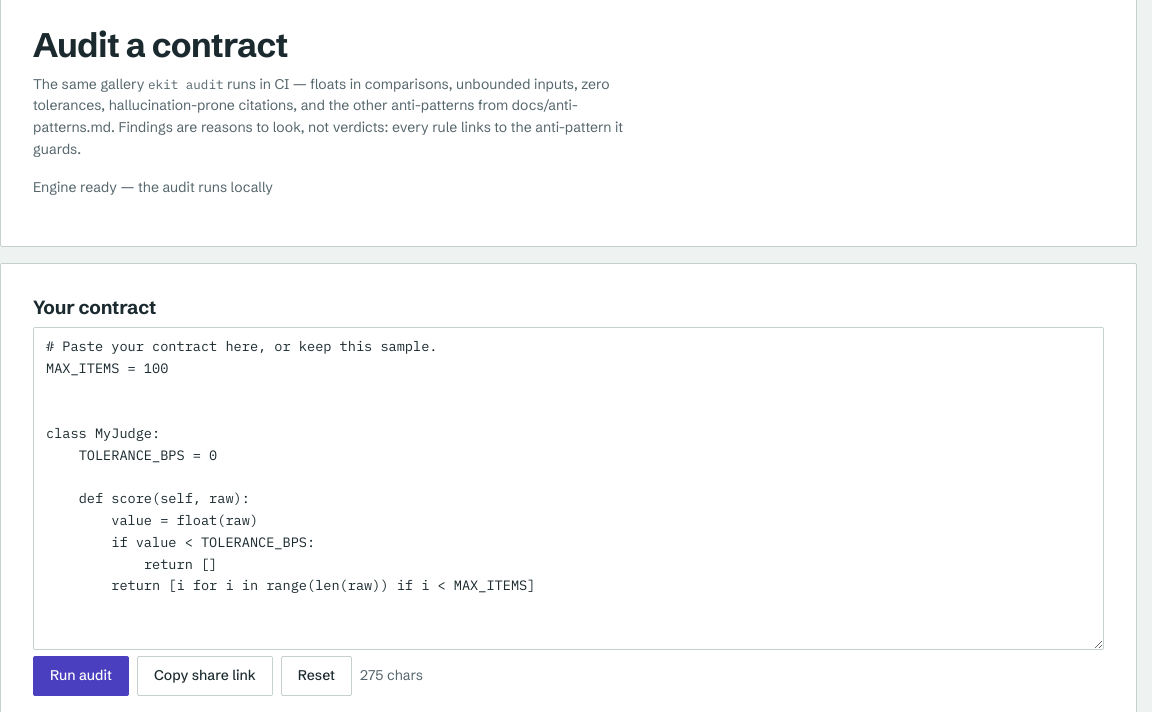
Scenario: Audit screen › celebrates a clean source but does not overclaim tightness
Click the button "Run audit" at (81, 676), box x1=33 y1=656 x2=129 y2=696
(page scrolled)
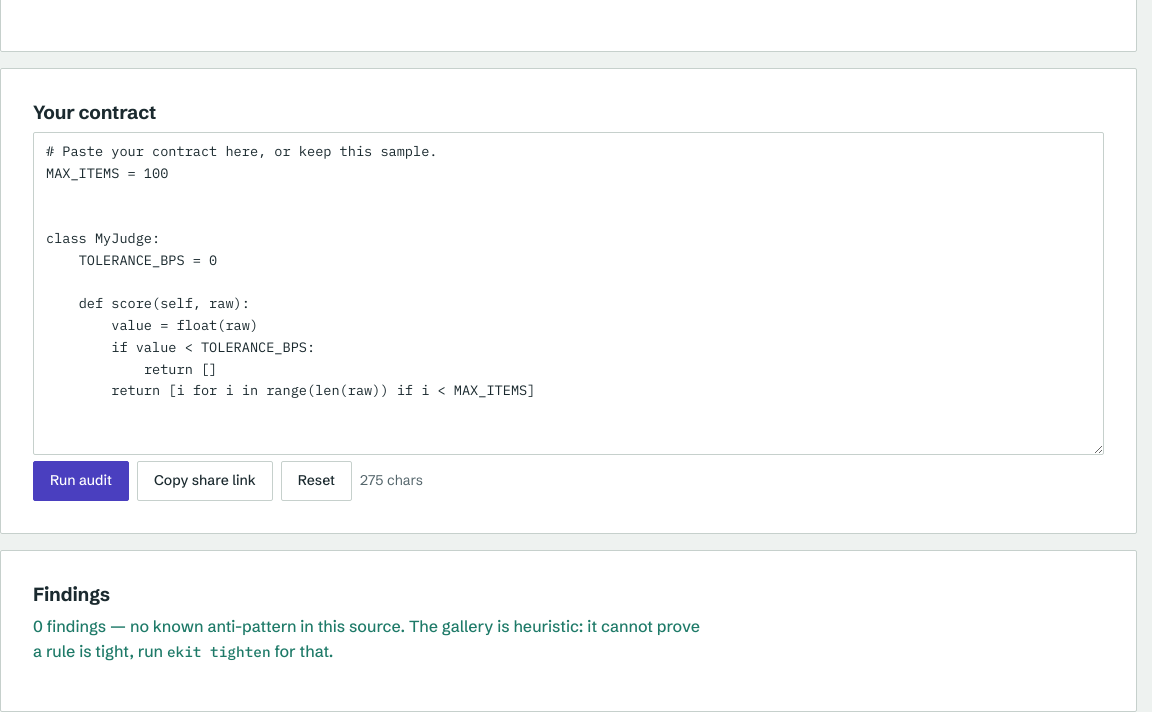
Now the text "it cannot prove a rule is tight" is shown, box x1=33 y1=616 x2=700 y2=661
